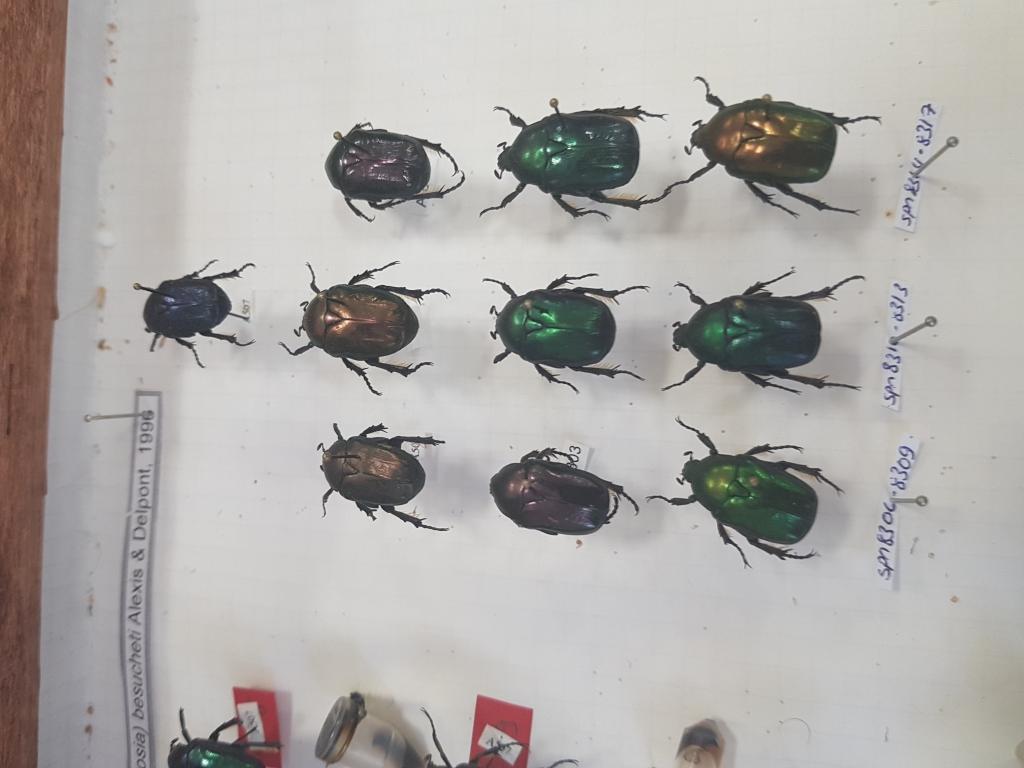Protaetia_besucheti: (663, 272, 878, 418), (272, 252, 454, 395), (474, 270, 653, 400)
